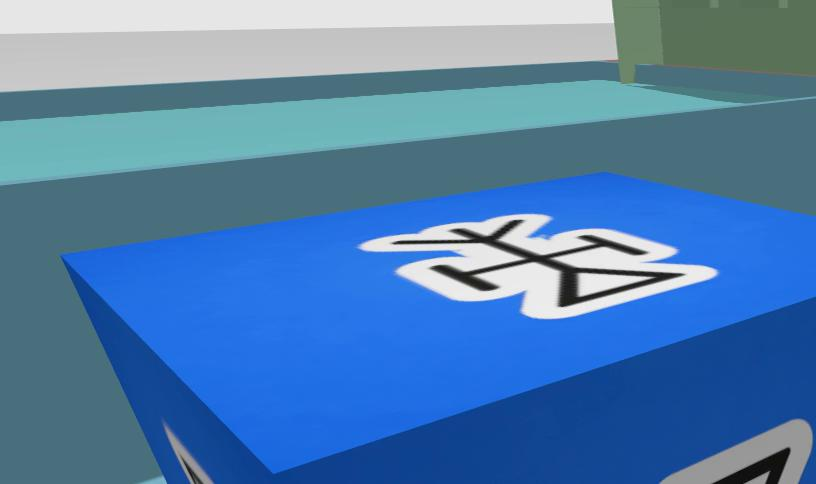KFS_REAL: (59, 173, 816, 484), (358, 214, 716, 318), (660, 420, 812, 484)
